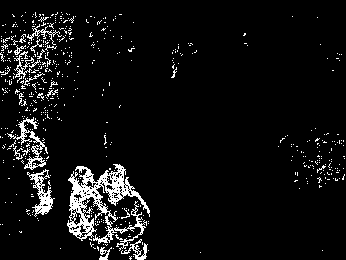person: (102, 158, 151, 260), (68, 164, 113, 260), (14, 118, 54, 216)
